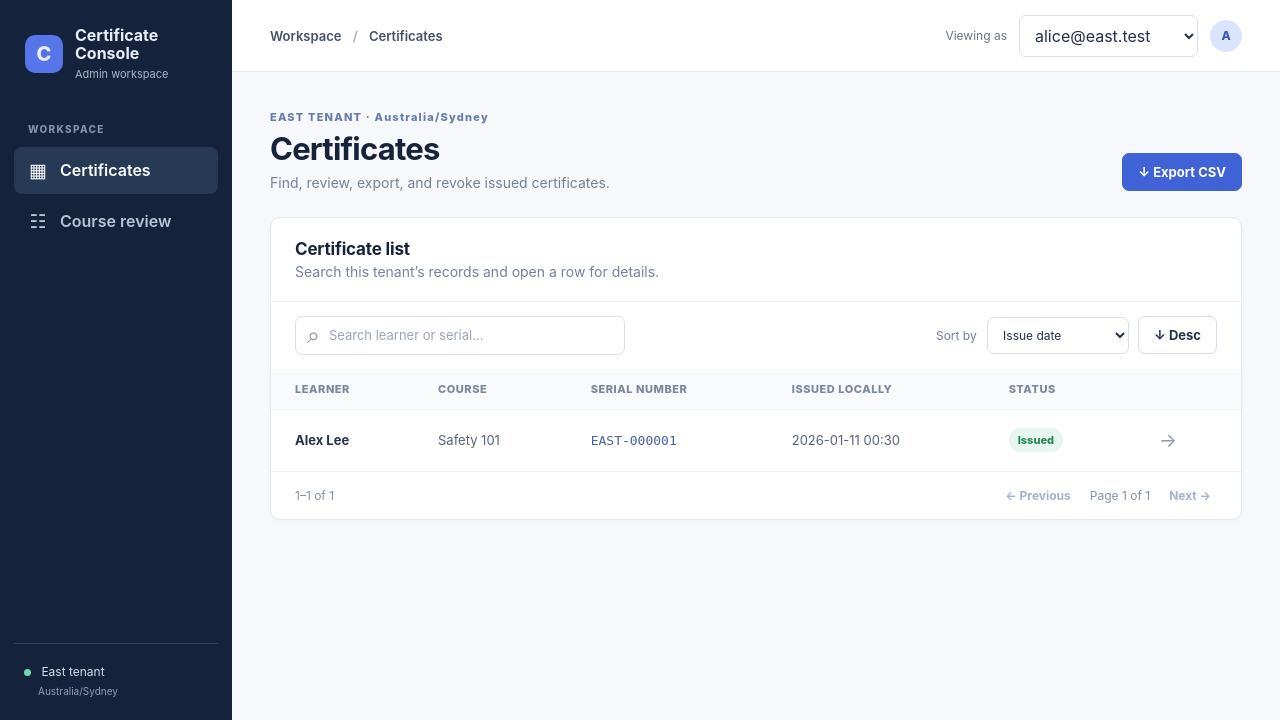
Test case: certificate console › disables duplicate bulk submission and renders per-learner outcomes
Later steps or results of the test are not shown.
Check: the text "EAST-000001" is shown, box [567,409,768,471]
Click the button "☷ Course review" at point(116, 221), box [14,198,218,245]
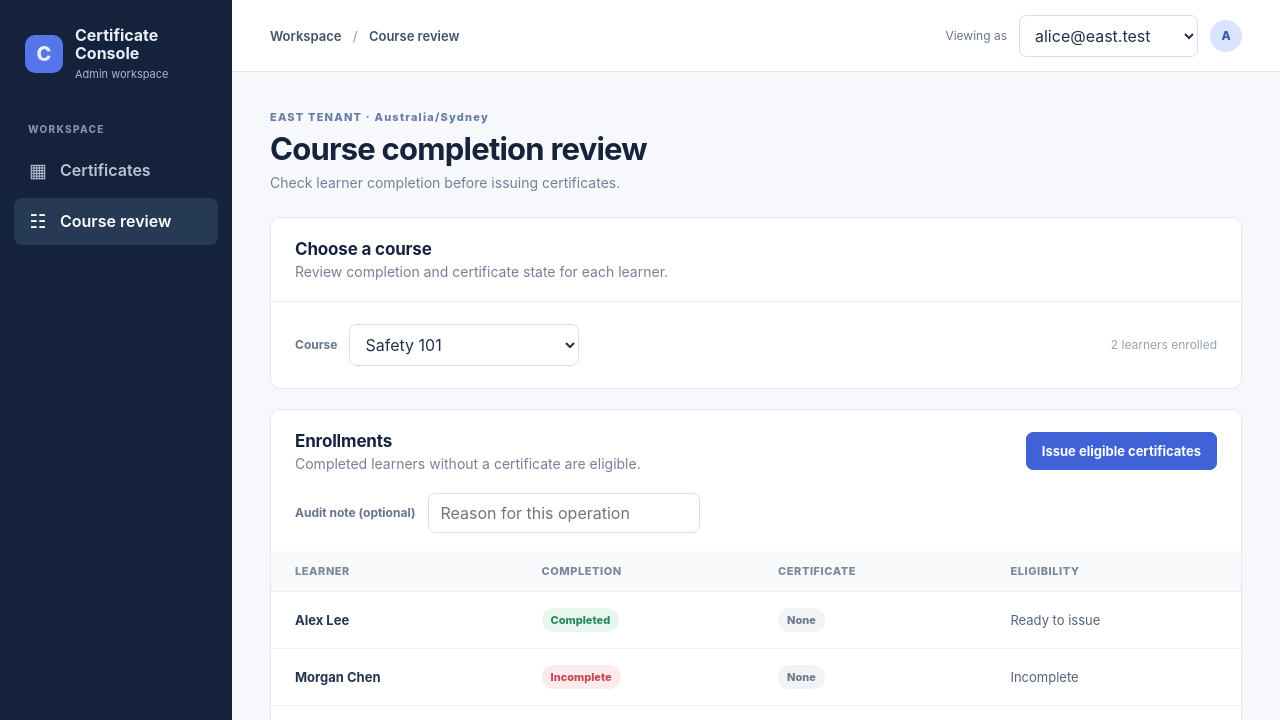
Check: the text "Ready to issue" is shown, box [986,591,1241,648]
Click the button "Issue eligible certificates" at point(1121, 451), box [1026,432,1217,470]
(page scrolled)
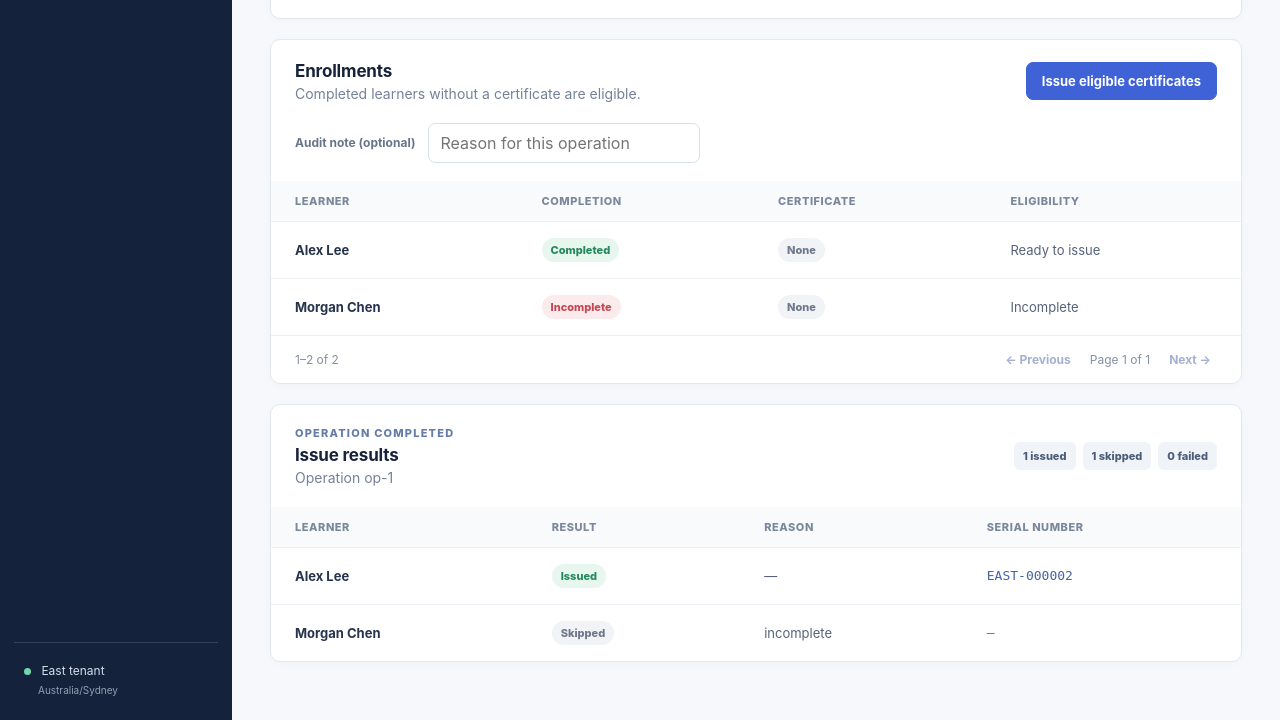
Check: the heading "Issue results" is shown, box [295,445,399,465]
Check: the text "EAST-000002" is shown, box [963,547,1241,604]
Check: the text "1 skipped" is shown, box [1082,442,1151,470]
